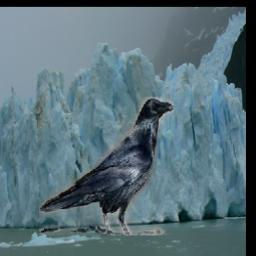Crow: (39, 97, 174, 235)
